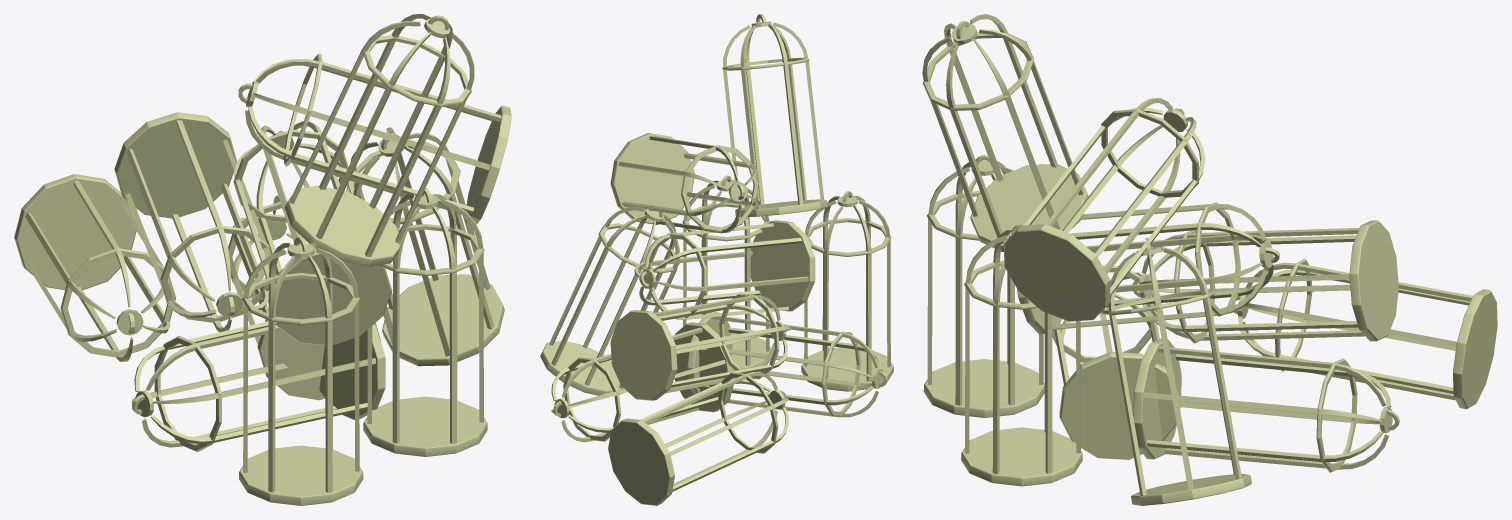
The model's file is Cage_Pile_01A_Lod0.fbx.
3 renders of one model, left to right at view 1: azimuth 30°, elevation 25°; view 2: azimuth 150°, elevation 25°; view 3: azimuth 270°, elevation 25°, orthographic. The views are drawn at different scales.
Visible parts, largest first — view 1: Cage_Pile_01A_Lod0; view 2: Cage_Pile_01A_Lod0; view 3: Cage_Pile_01A_Lod0.
Part boxes in pixels (bbox=[...]): Cage_Pile_01A_Lod0: bbox=[14, 14, 511, 505]; Cage_Pile_01A_Lod0: bbox=[540, 14, 893, 505]; Cage_Pile_01A_Lod0: bbox=[922, 14, 1497, 505].
Bounding box in the file's own units: 236 × 249 × 293.
